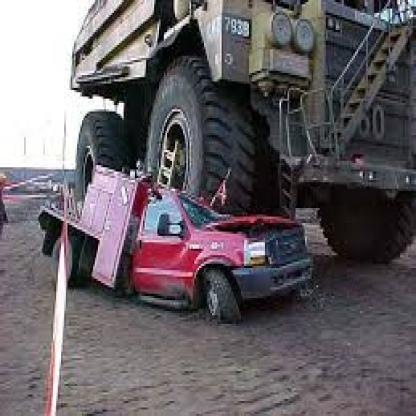light_vehicle: (45, 98, 363, 380)
